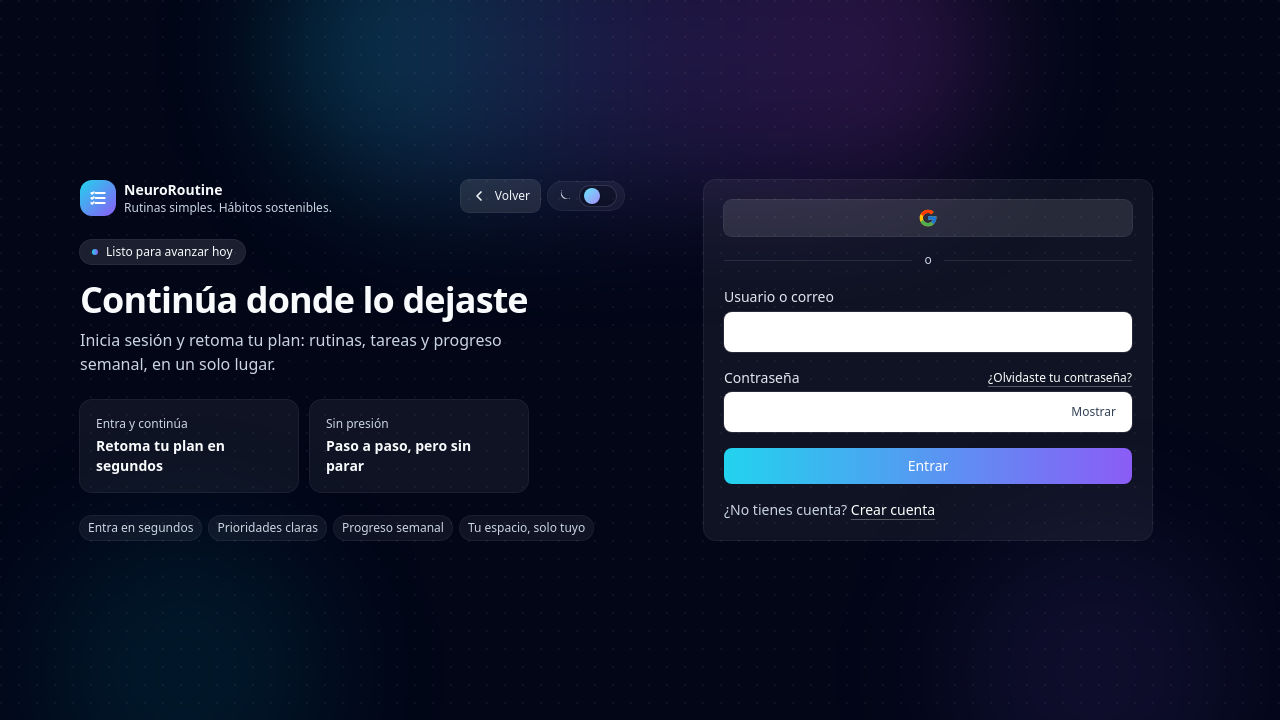
LoginPage › shows a validation error for an empty identifier and password
The width and height of the screenshot is (1280, 720).
Click the button with test id "login-submit": (928, 466) top-left (724, 448), bottom-right (1132, 484)
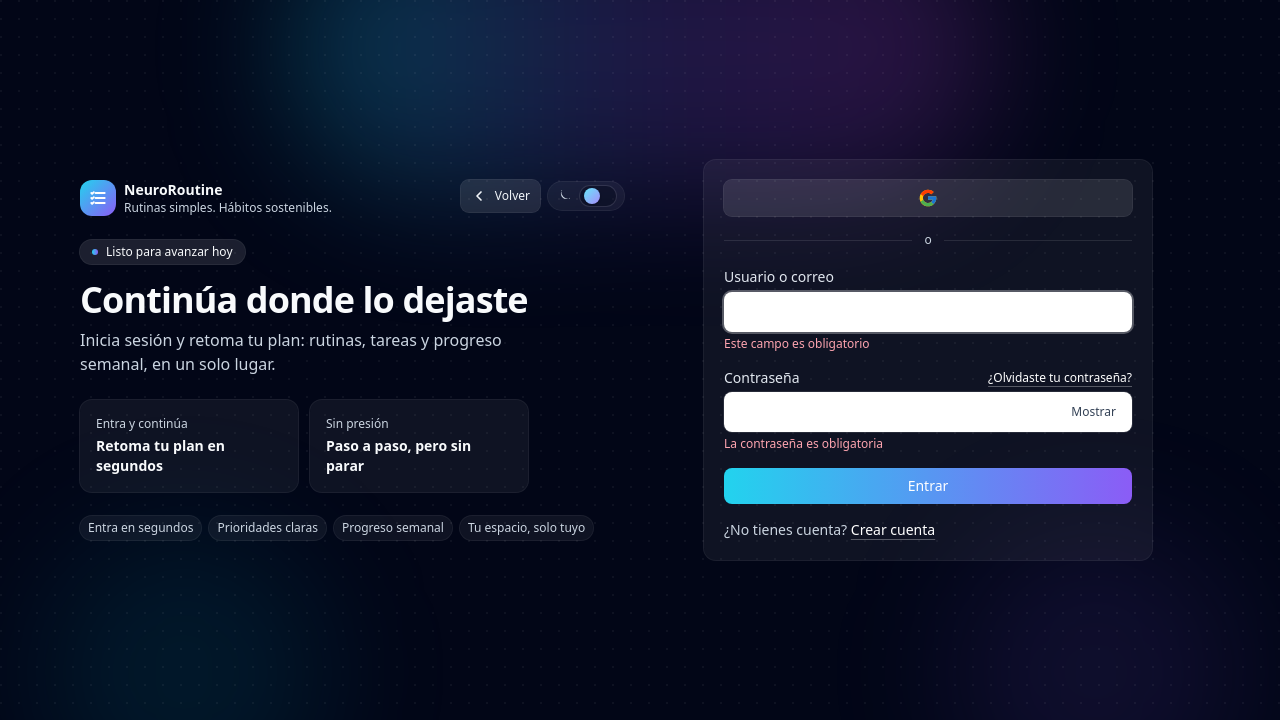
Expected: the text "Este campo es obligatorio" is shown, top-left (724, 335), bottom-right (870, 352)
Expected: the text "La contraseña es obligatoria" is shown, top-left (724, 435), bottom-right (883, 452)
